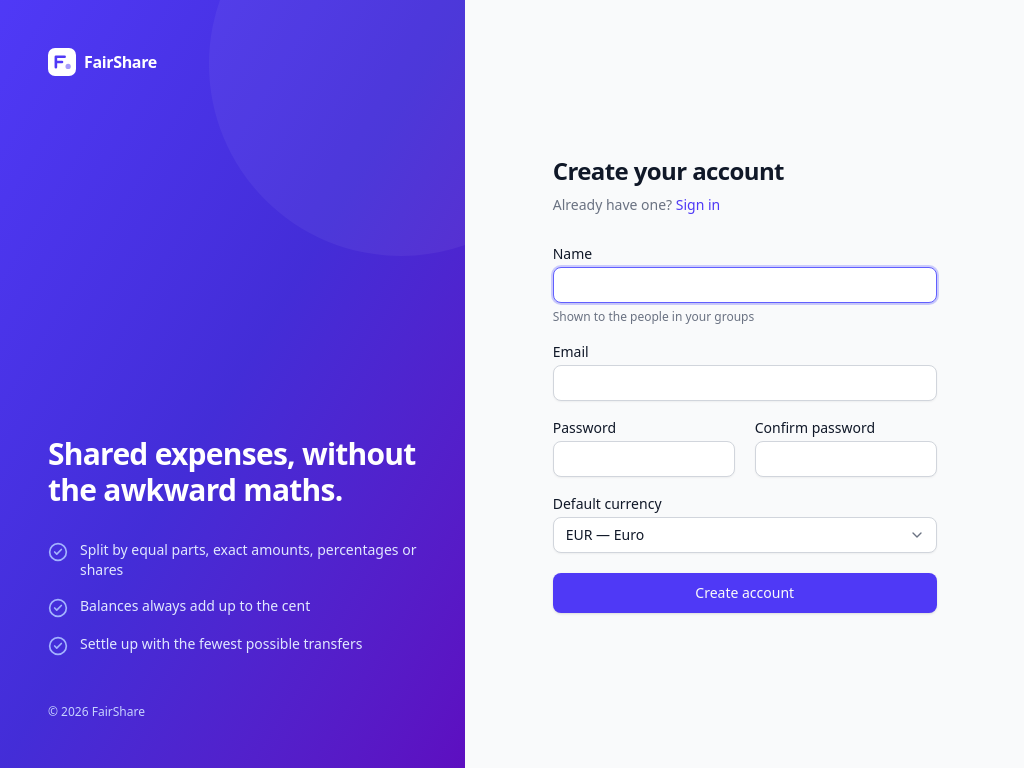
Test case: RegisterPage › puts the backend error next to the field it belongs to
This screenshot has width=1024, height=768.
Type "Anna Smith" into the field labelled "Name".
click(745, 285); type("Anna Smith")  # box [553, 267, 937, 303]
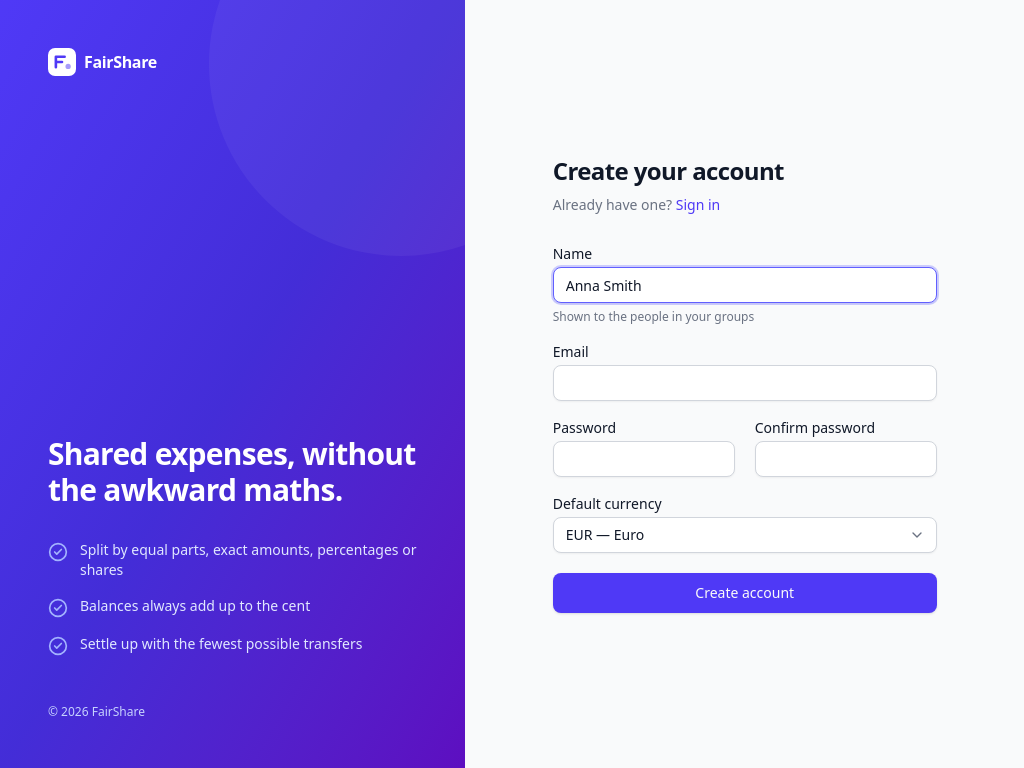
Type "anna@example.com" into the field labelled "Email".
click(745, 383); type("anna@example.com")  # box [553, 365, 937, 401]
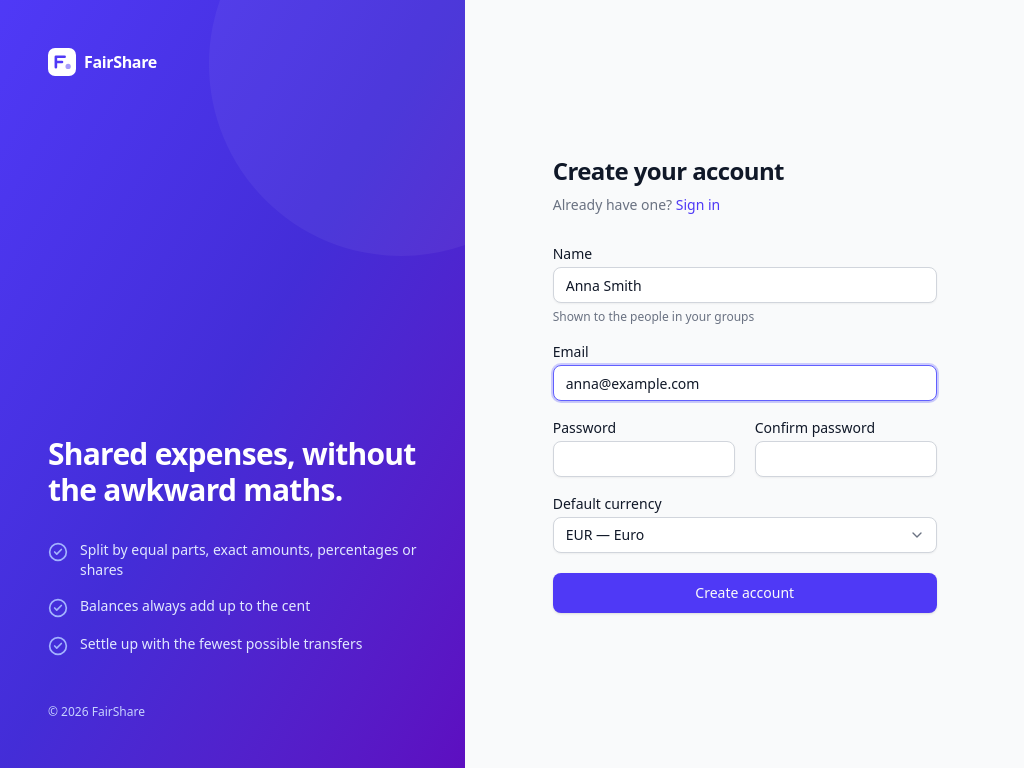
Type "password123" into the password field labelled "Password".
click(644, 459); type("password123")  # box [553, 441, 735, 477]
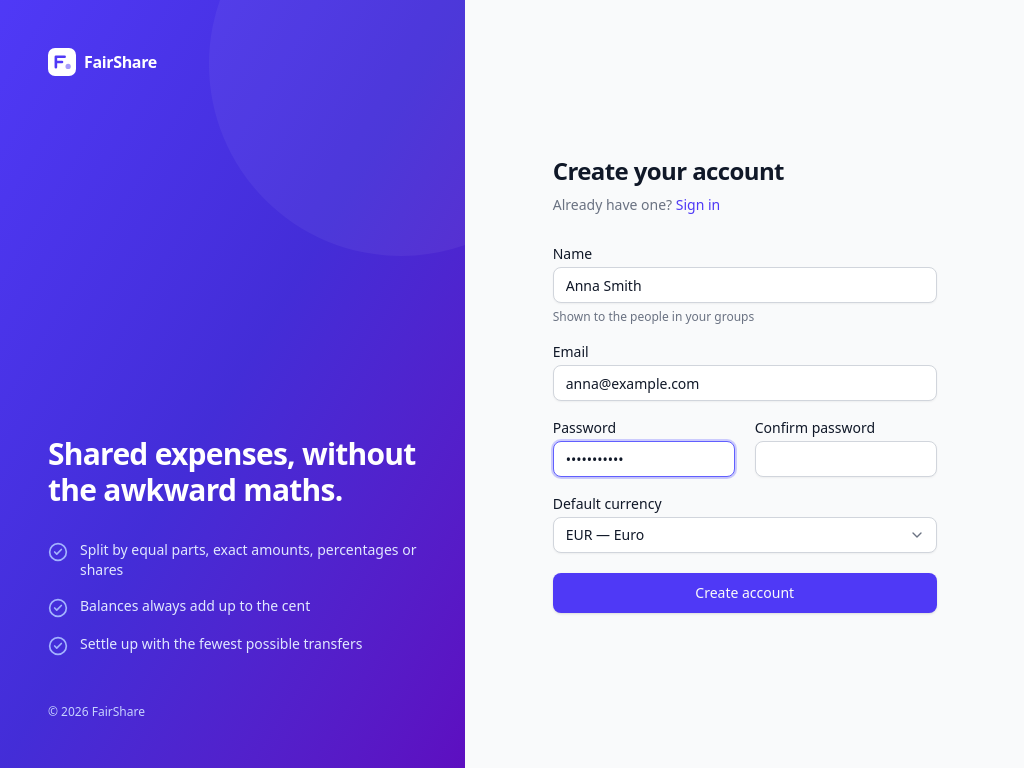
Type "password123" into the password field labelled "Confirm password".
click(846, 459); type("password123")  # box [755, 441, 937, 477]
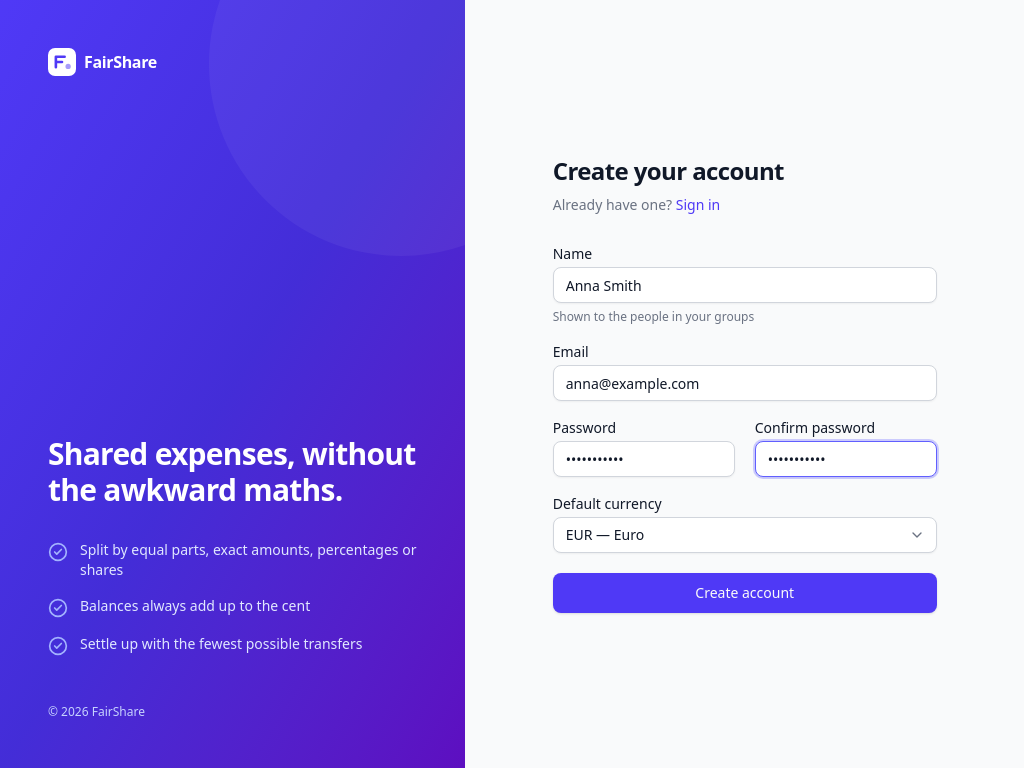
Click the button "Create account".
click(745, 593)  # box [553, 573, 937, 613]
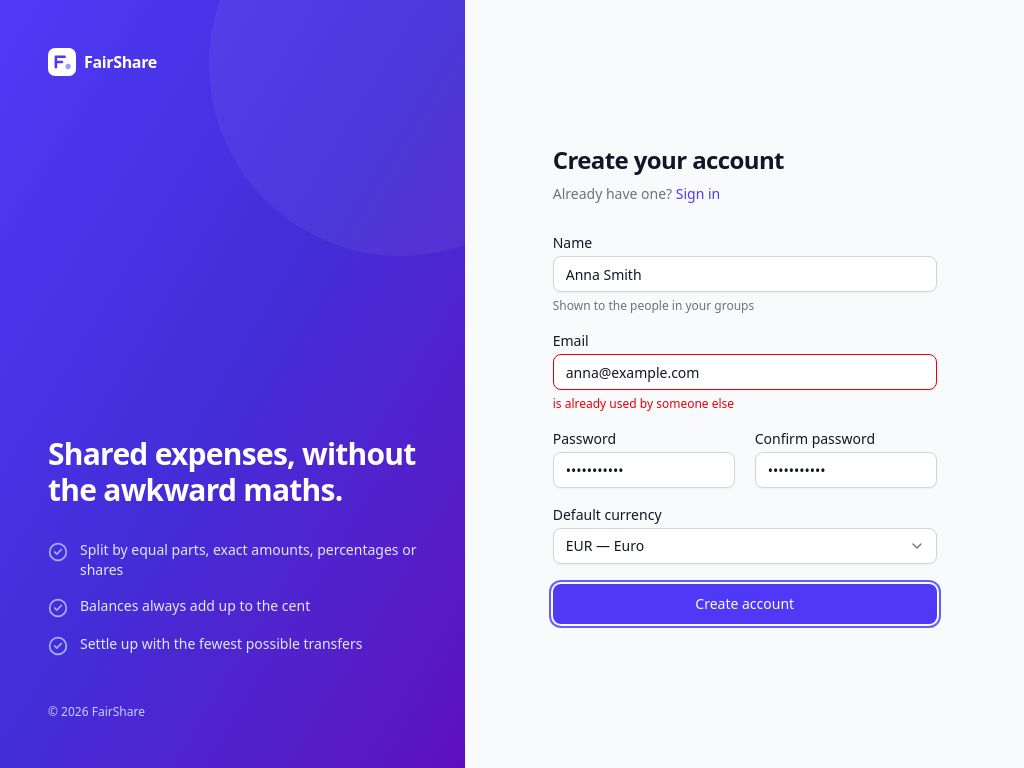
expect the text "is already used by someone else" is shown: met, box [553, 395, 734, 412]
